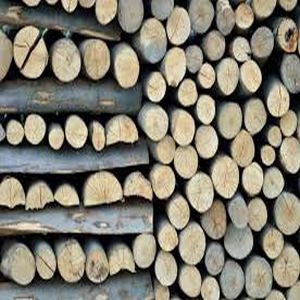log: (11, 23, 50, 80), (49, 36, 81, 85), (137, 16, 169, 65), (82, 170, 124, 207), (55, 241, 89, 285), (176, 223, 207, 268), (244, 257, 276, 300), (271, 191, 300, 236), (211, 155, 241, 198), (185, 172, 216, 213), (211, 54, 240, 97), (82, 39, 112, 80), (110, 45, 139, 87), (222, 223, 254, 261), (162, 47, 189, 91), (138, 105, 170, 142), (273, 243, 299, 288), (200, 199, 228, 240), (193, 124, 223, 162), (228, 131, 258, 168), (104, 117, 141, 147), (217, 259, 244, 300), (7, 246, 35, 285), (164, 7, 191, 47), (85, 246, 112, 285), (149, 164, 178, 200), (165, 194, 193, 231), (242, 96, 267, 137), (169, 111, 198, 146), (152, 251, 179, 288), (132, 231, 156, 272), (217, 101, 242, 140), (263, 80, 289, 117), (25, 180, 55, 212), (123, 168, 152, 201), (174, 144, 200, 180), (238, 60, 263, 97), (118, 1, 145, 35), (63, 116, 89, 151), (278, 52, 300, 93), (178, 264, 203, 300), (106, 246, 136, 276), (274, 15, 297, 54), (189, 1, 216, 34), (33, 246, 59, 280), (261, 224, 286, 259), (203, 240, 227, 276), (261, 165, 286, 199), (278, 136, 300, 174), (143, 72, 169, 103), (23, 115, 49, 146), (54, 180, 80, 211), (2, 177, 27, 209), (241, 162, 263, 198), (227, 196, 249, 232), (247, 196, 267, 234), (194, 93, 217, 126), (203, 30, 227, 61), (250, 26, 274, 57), (156, 224, 181, 252), (155, 133, 176, 166), (4, 117, 26, 148), (230, 34, 251, 65), (174, 79, 199, 105), (94, 1, 118, 26), (216, 6, 235, 37), (278, 109, 299, 137), (235, 3, 254, 32), (196, 60, 215, 89), (186, 44, 203, 76), (90, 122, 107, 154), (200, 274, 220, 300), (48, 125, 65, 155), (263, 125, 284, 148), (258, 146, 279, 166)
